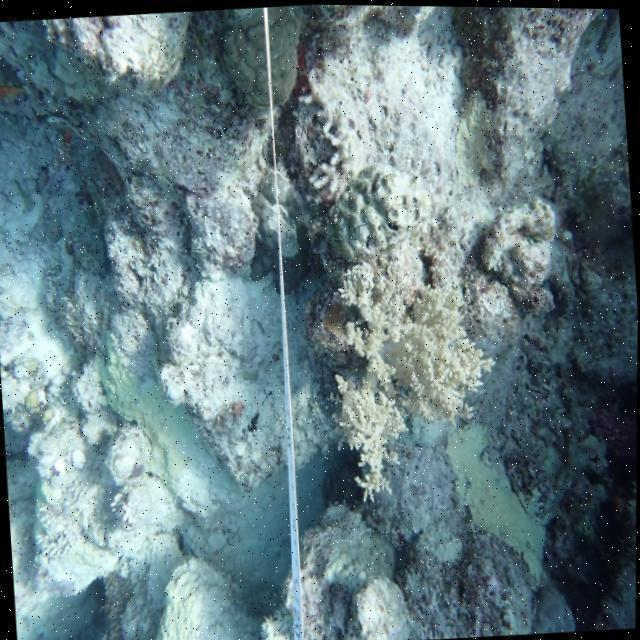Bleached Coral: (306, 214, 497, 503)
